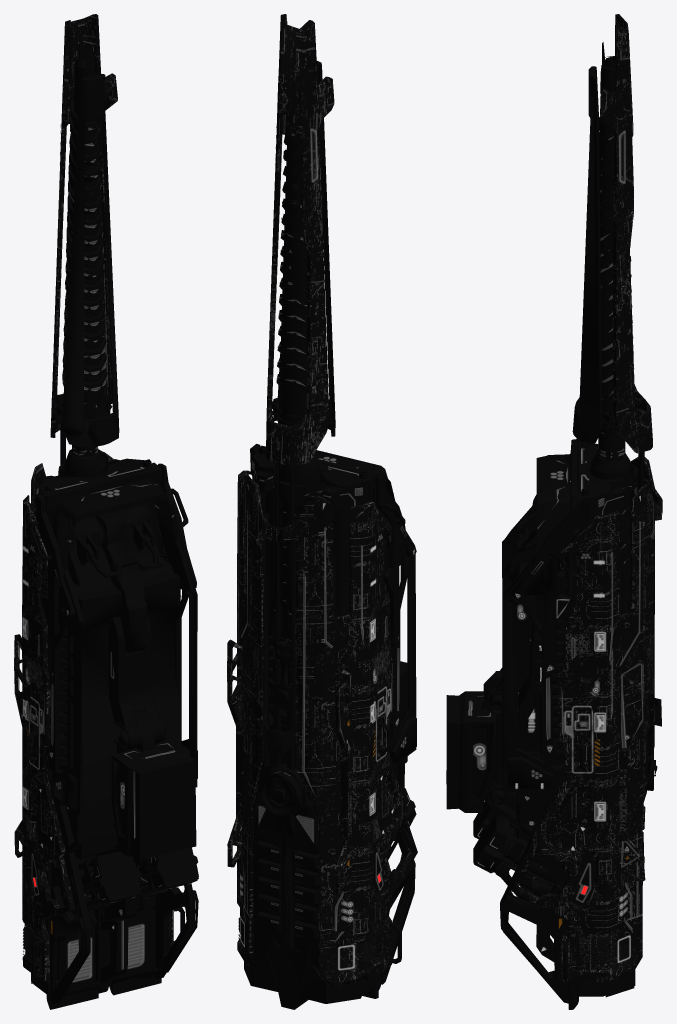
File: m7a-cannon.glb
The picture shows the model from 3 angles, left to right: view 1: azimuth 30°, elevation 25°; view 2: azimuth 150°, elevation 25°; view 3: azimuth 270°, elevation 25°; orthographic projection. The views are drawn at different scales.
Parts seen in each view (by area): view 1: body; view 2: body; view 3: body.
Boxes of the visible parts, x1=… form: body: x1=14, y1=14, x2=198, y2=1009; body: x1=227, y1=14, x2=417, y2=1009; body: x1=446, y1=14, x2=662, y2=1009.
Bounding box in the file's own units: 1.38 × 8.38 × 1.7.
Materials: 7 (5 with a texture image).
